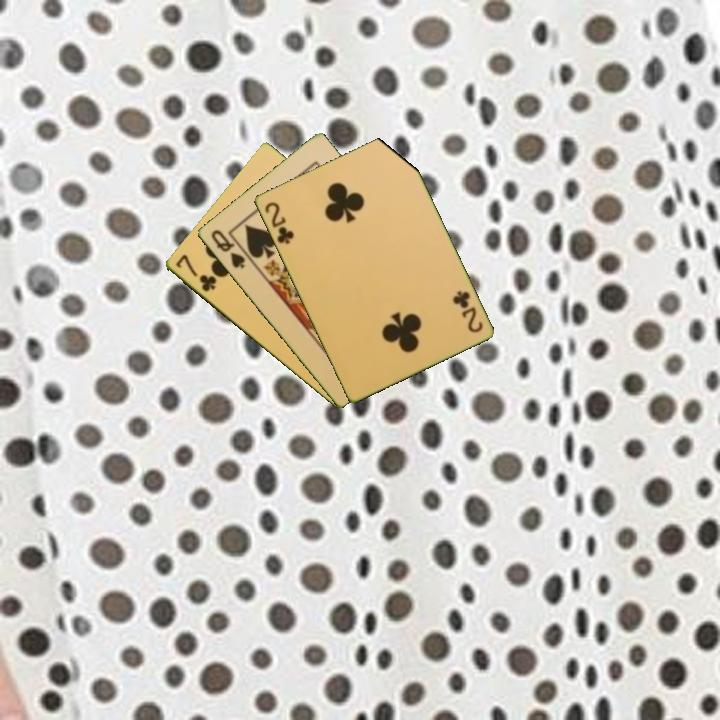2c: (449, 287, 486, 336), (261, 198, 297, 247)
7c: (172, 251, 219, 295)
Qs: (207, 226, 248, 272)
